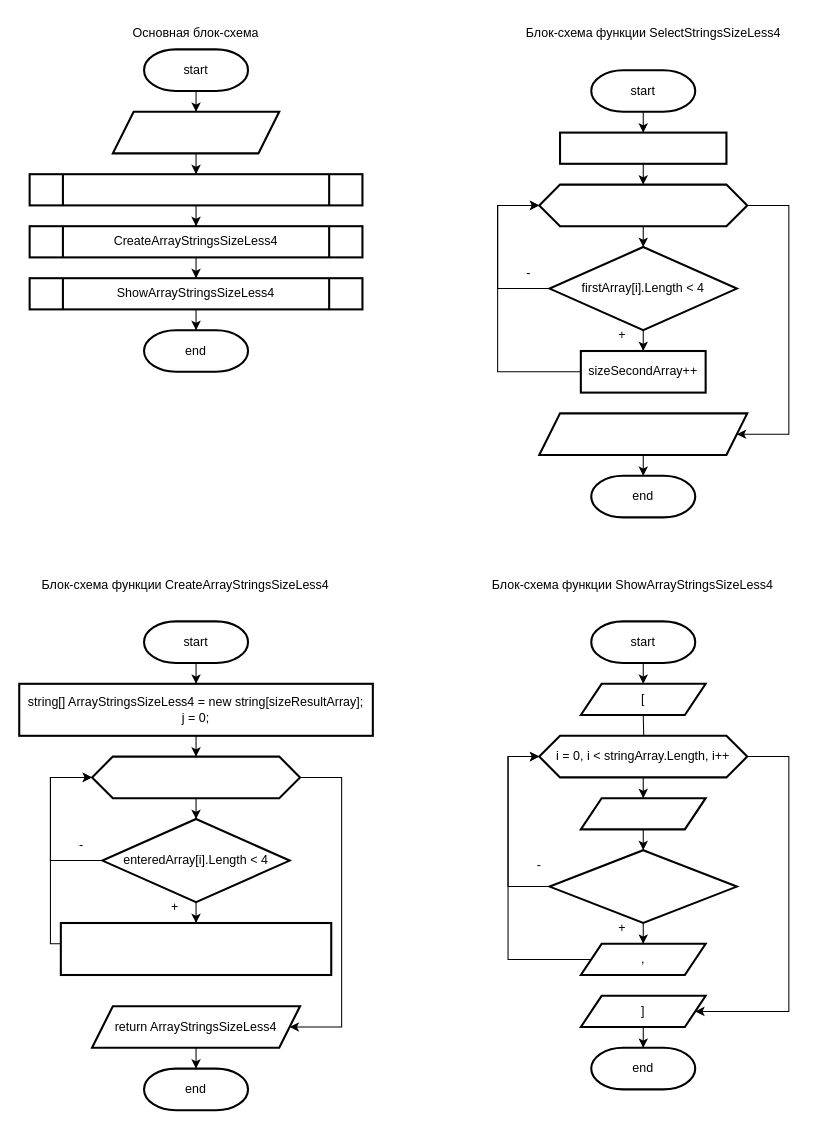
Image size: 827x1128. Some labels were removed from this diagram. The box of each missing label's shape, as (x1, y1, x2, y2) in pixels:
ArrayStringsSizeLess4[j] = enteredArray[i]; j++: (59, 921, 332, 976)
i < stringArray.Length - 1: (548, 849, 737, 924)
i = 0, i < enteredArray.Length, i++: (90, 755, 301, 799)
i = 0, i < firstArray.Length, i++: (538, 183, 748, 227)
return sizeSecondArray: (538, 412, 748, 456)
SelectStringsSizeLess4: (28, 173, 363, 206)
sizeSecondArray = 0: (558, 131, 727, 164)
stringArray: (111, 110, 280, 154)
stringArray[i]: (579, 797, 706, 830)
